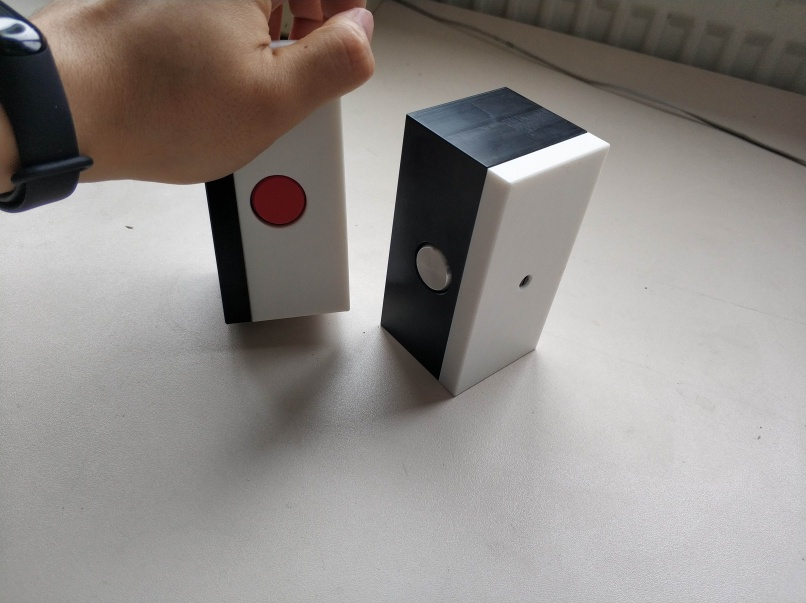black+white+red: (202, 97, 353, 326)
white+black+silver: (377, 83, 613, 399)
